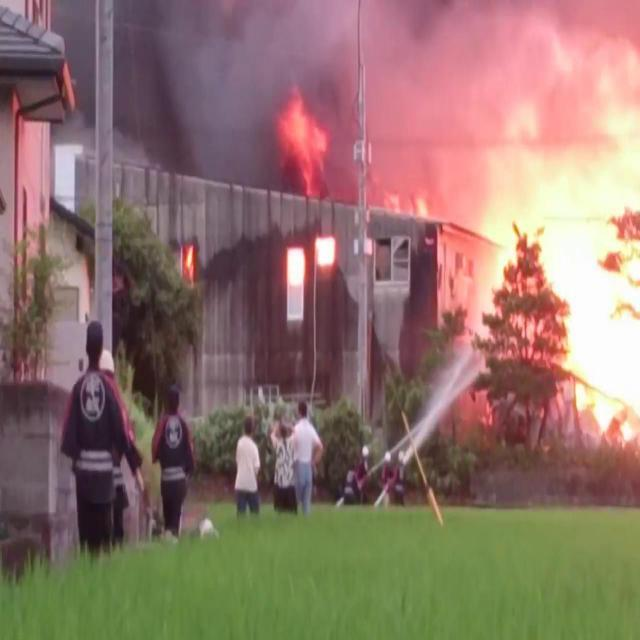Fire: (457, 51, 639, 446), (274, 86, 328, 199), (412, 193, 428, 216), (184, 240, 194, 268)
